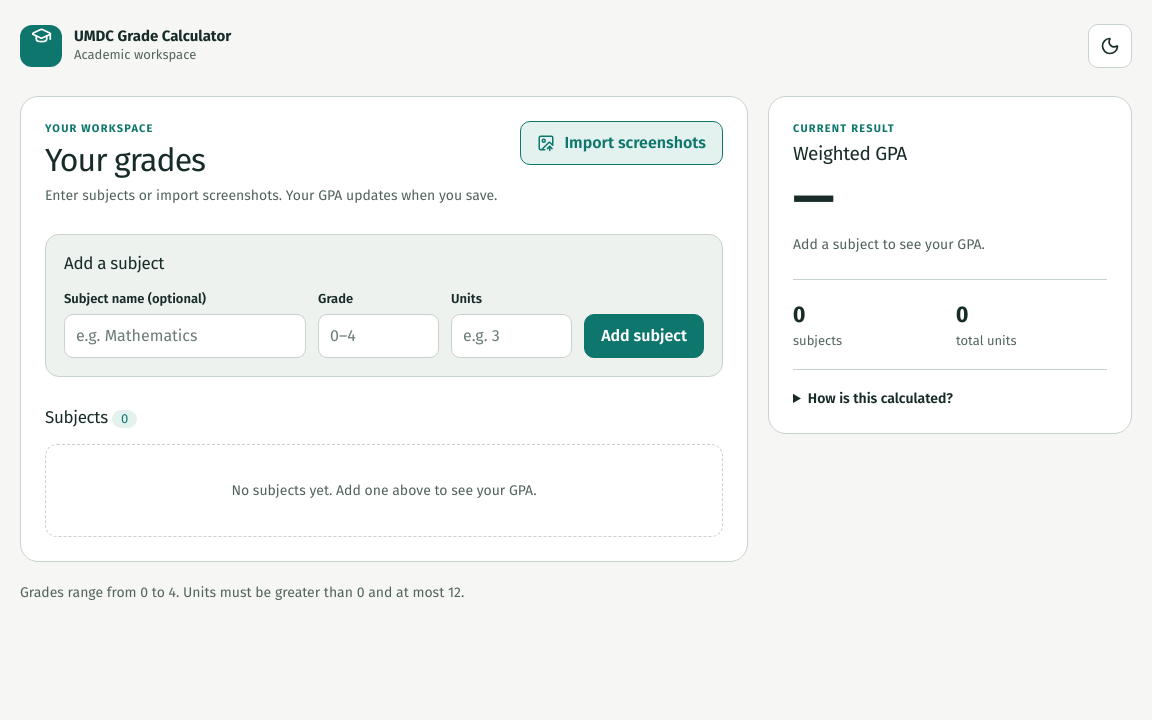
it: updates GPA on save and restores the last deleted subject
Type "Math" into the field labelled "Subject name (optional)" at (185, 336), box [64,314,306,358]
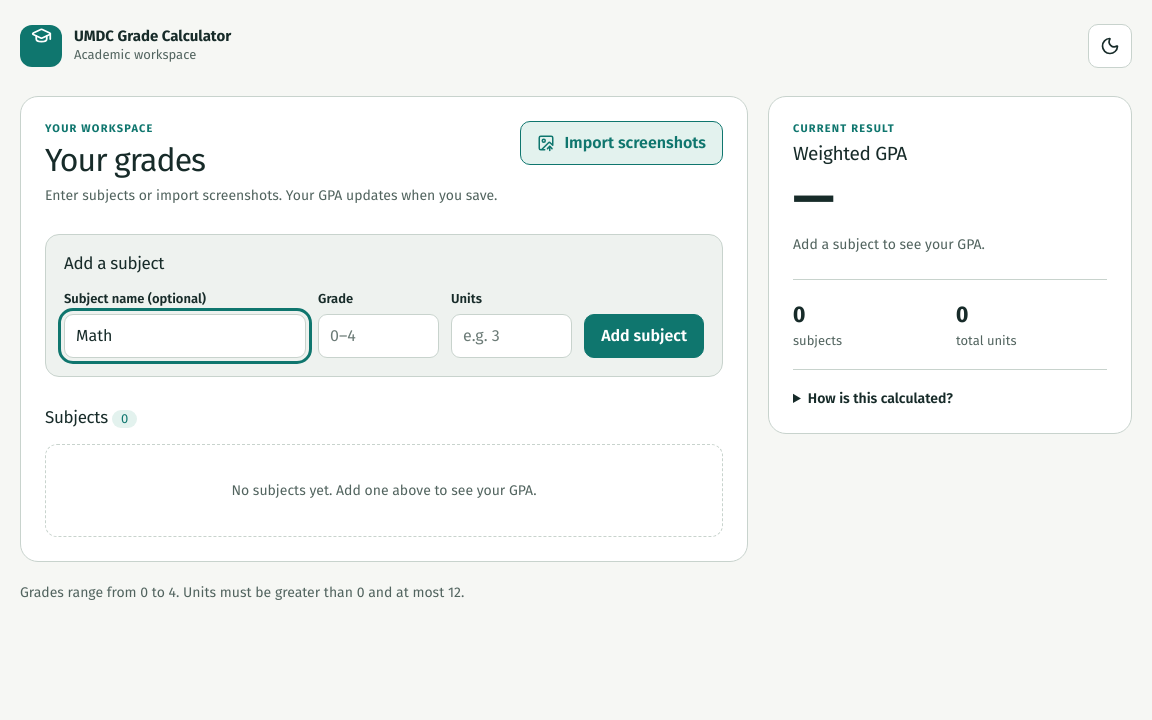
Type "3.5" into the field labelled "Grade" at (379, 336), box [318,314,439,358]
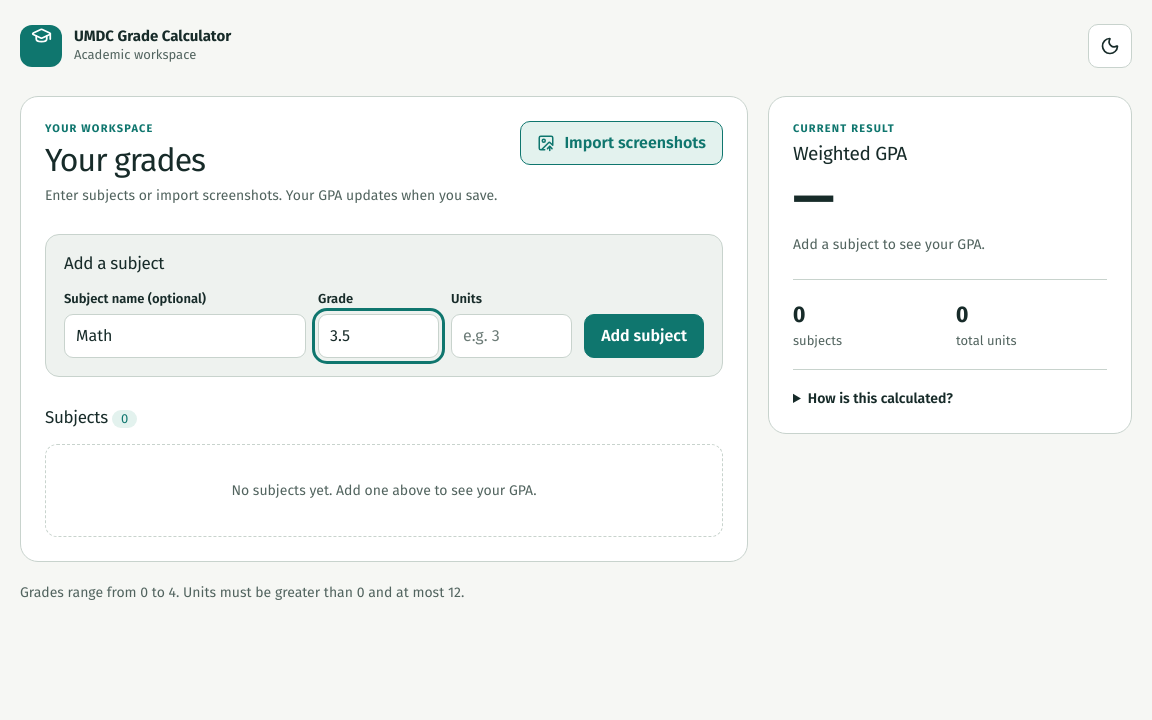
Type "3" into the field labelled "Units" at (512, 336), box [451,314,572,358]
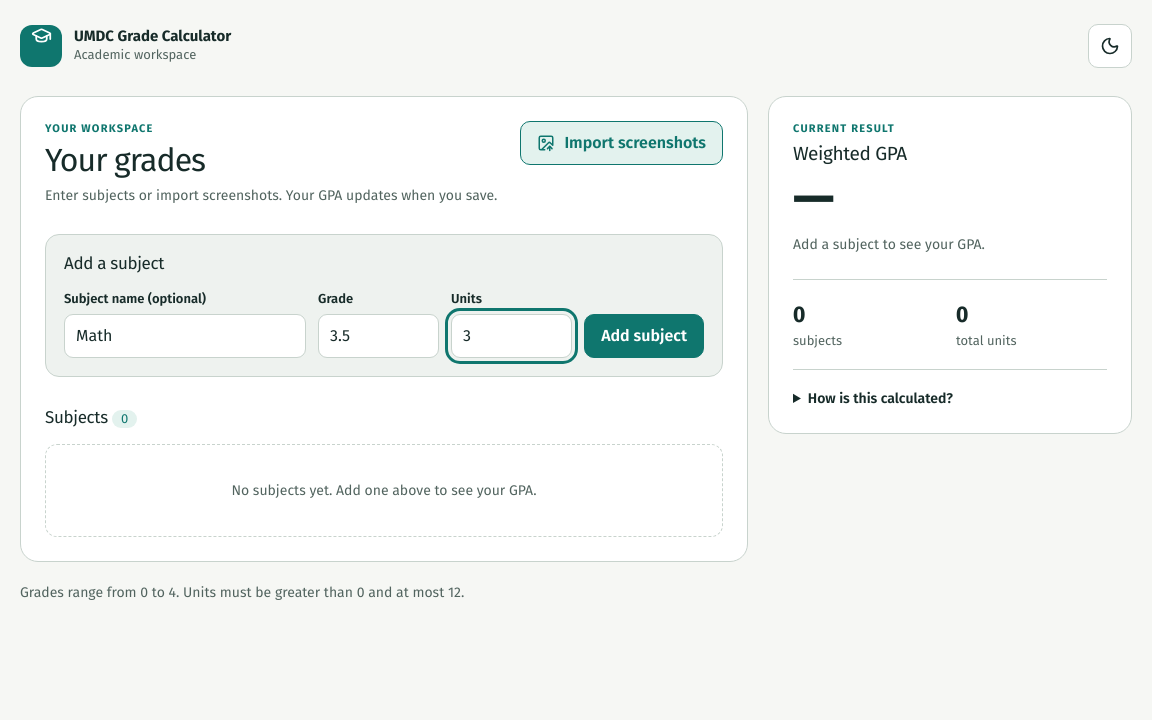
Click the button "Add subject" at (644, 336), box [584,314,704,358]
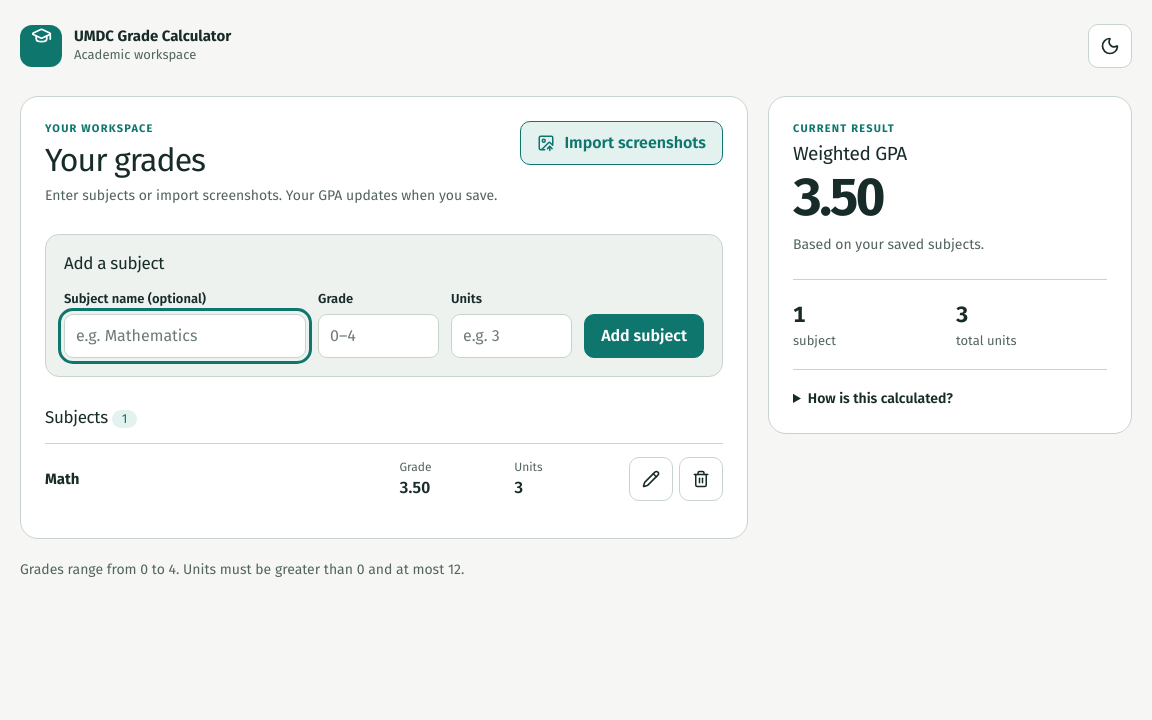
Expected: the text named "Weighted GPA" reads "3.50", [793,166,882,229]
Click the button named "Delete Math" at (701, 479), box [679,457,723,501]
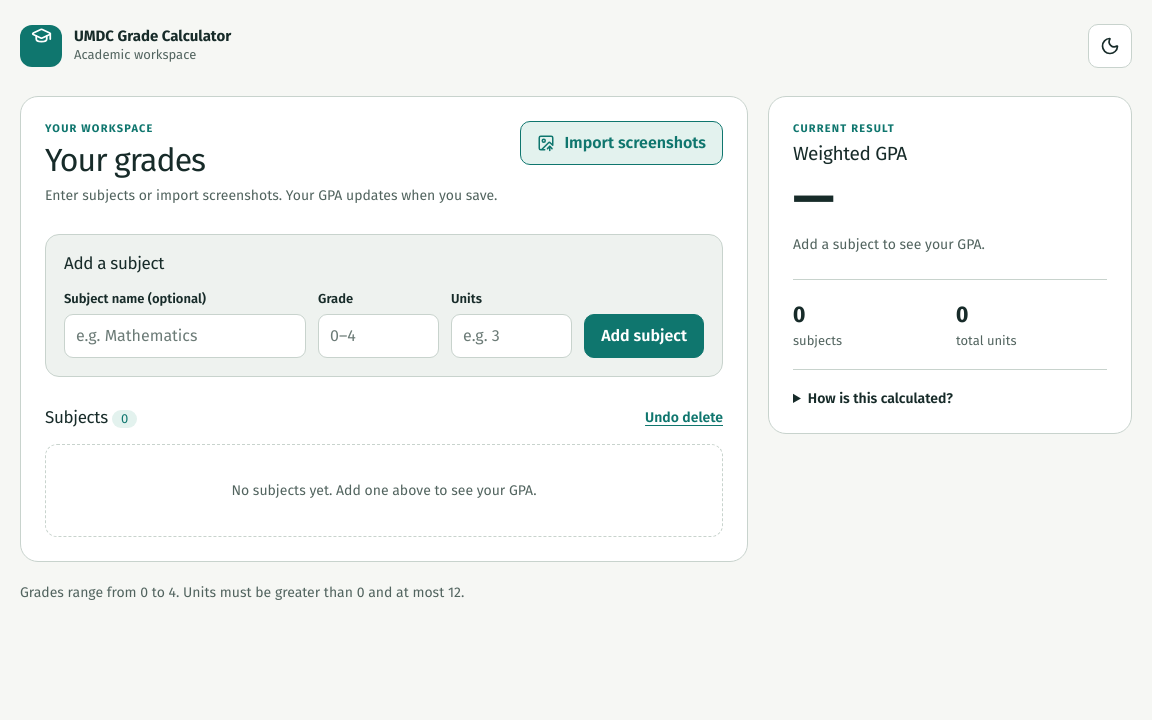
Expected: the text named "Weighted GPA" reads "—", [793,166,832,229]
Click the button "Undo delete" at (684, 418), box [645,407,723,428]
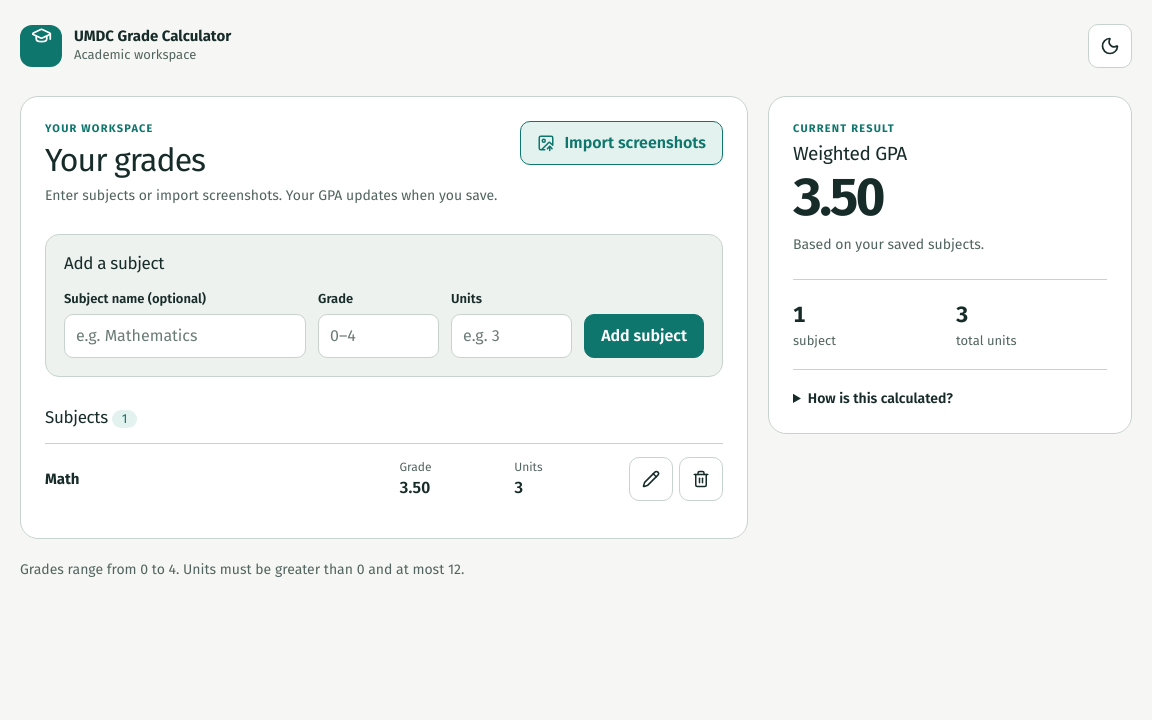
Expected: the text named "Weighted GPA" reads "3.50", [793,166,882,229]
